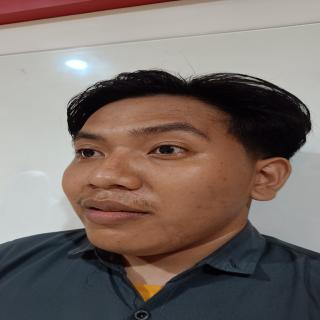Takut: (47, 81, 256, 265)
